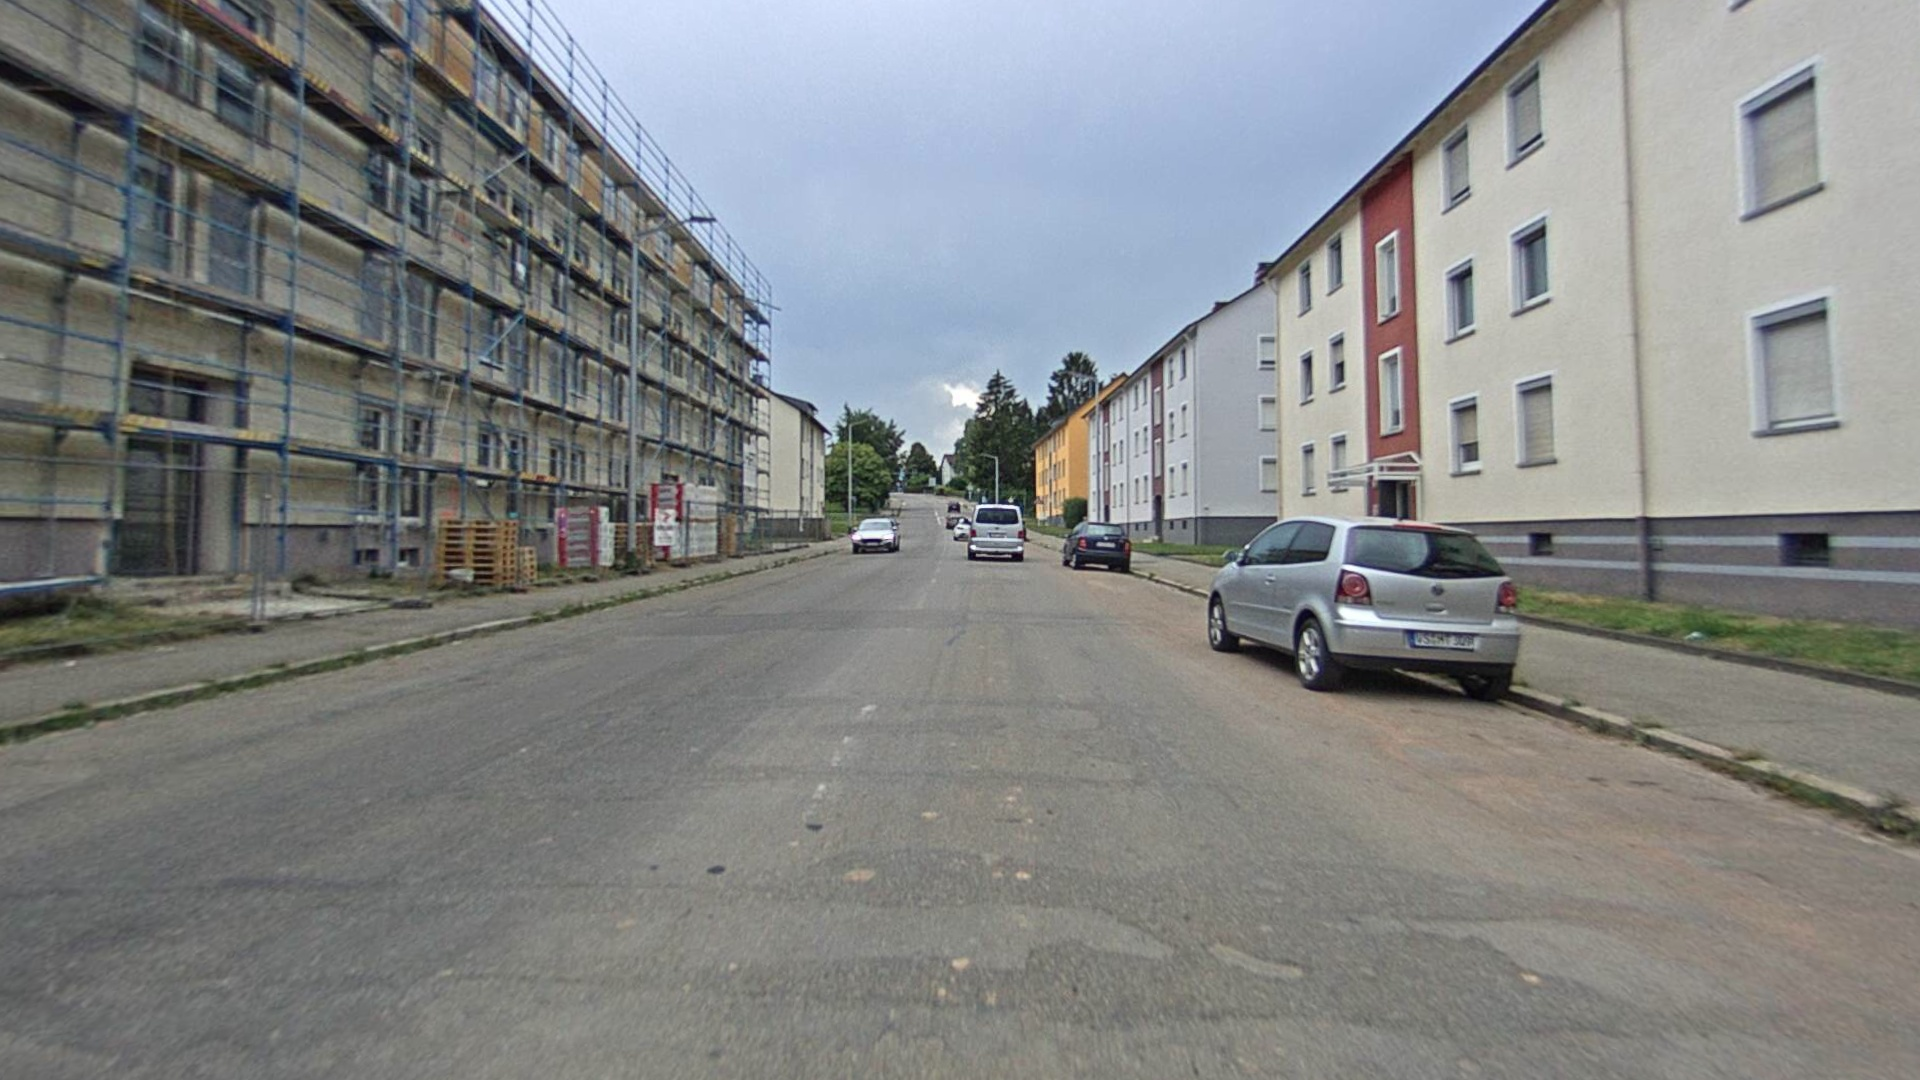car: (1204, 514, 1523, 702), (967, 502, 1027, 563)
